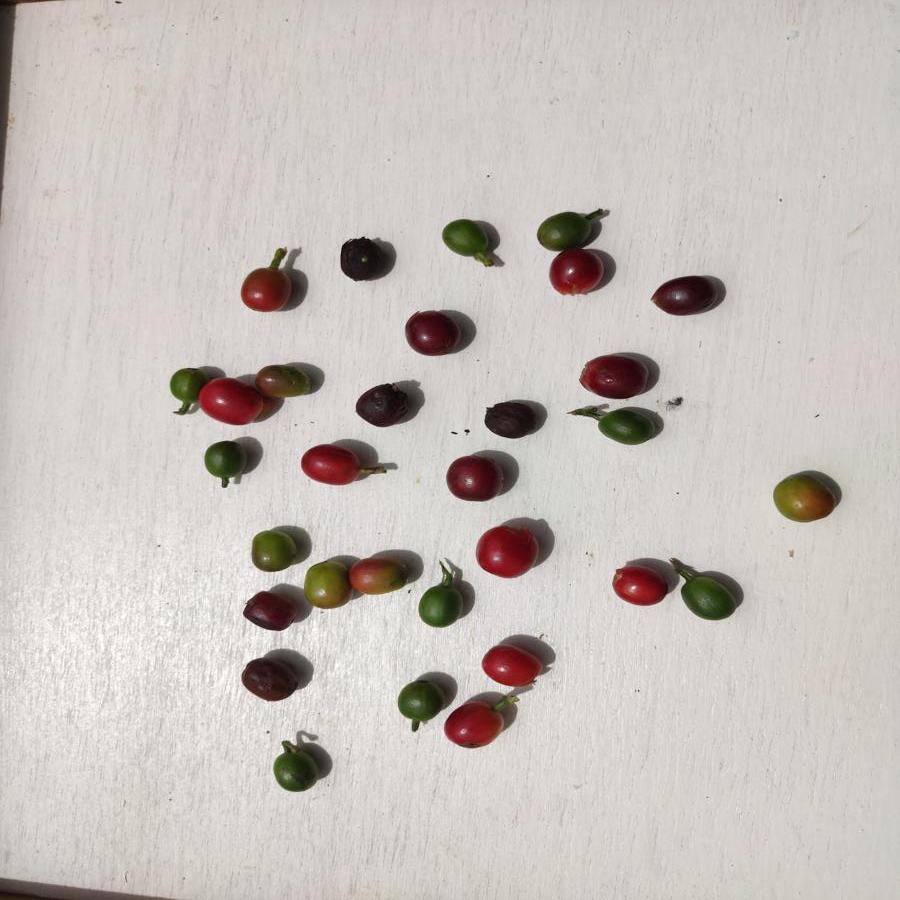Inmaduro: (681, 573, 744, 624), (598, 407, 660, 446), (417, 582, 468, 629), (536, 211, 591, 248), (441, 218, 492, 257), (271, 749, 319, 790), (396, 681, 444, 720), (203, 439, 251, 478), (167, 367, 199, 404)
Maduro: (475, 521, 540, 578), (197, 372, 261, 424), (446, 701, 504, 752), (297, 442, 364, 485), (607, 562, 671, 607), (240, 265, 298, 313), (549, 250, 604, 295), (482, 647, 542, 687)
Pinton: (768, 473, 836, 527), (303, 558, 357, 607), (258, 358, 314, 400), (347, 558, 409, 595), (250, 529, 301, 573)
Sobremaduro: (577, 354, 649, 401), (651, 274, 722, 317), (238, 656, 301, 702), (402, 312, 461, 359), (445, 456, 505, 500), (337, 236, 395, 281), (355, 383, 412, 426), (243, 588, 299, 631), (482, 399, 538, 441)
